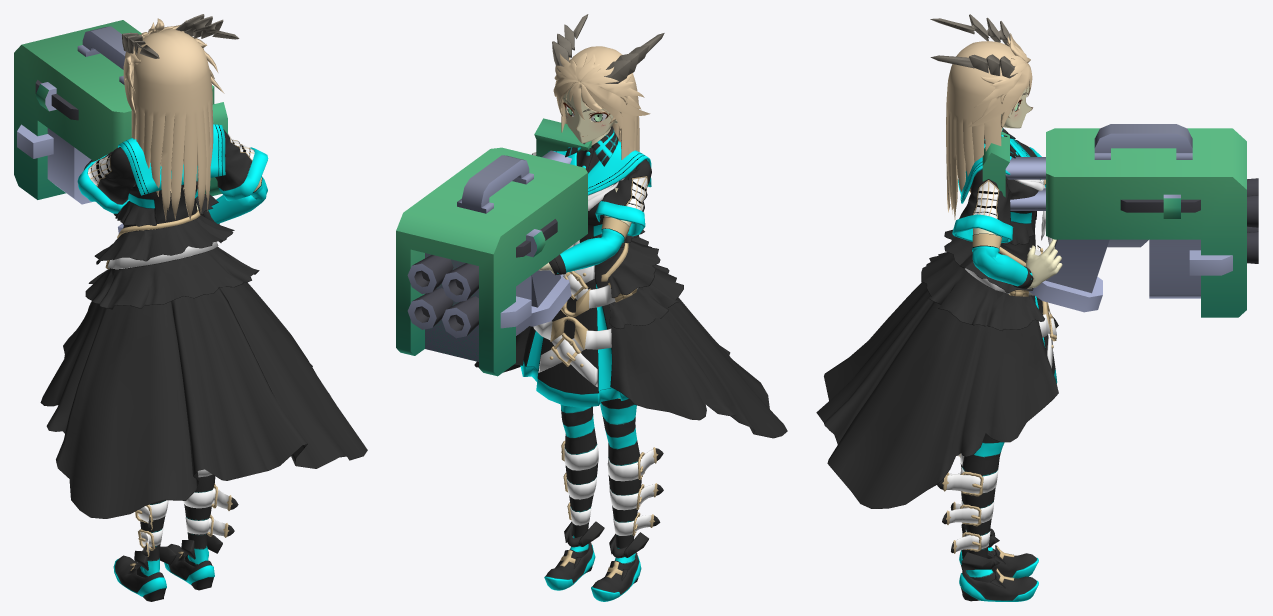
The model's file is Pose_Rocket.glb.
3 views of the same model, side by side, from view 1: azimuth 30°, elevation 25°; view 2: azimuth 150°, elevation 25°; view 3: azimuth 270°, elevation 25° (orthographic). The views are drawn at different scales.
Parts seen in each view (by area): view 1: Static_mantle, Reference_Rocket_blaster-o, Static_hairBack, Static_frill, Static_cuffs, Static_belt, Static_shoes, Static_collar, Static_legs, Static_horn, Static_body, Static_armcover (+2 smaller); view 2: Reference_Rocket_blaster-o, Static_mantle, Static_belt, Static_body, Static_legs, Static_frill, Static_hairFront, Static_shoes, Static_cuffs, Static_armcover, Static_hairBack, Static_horn (+4 smaller); view 3: Reference_Rocket_blaster-o, Static_mantle, Static_frill, Static_hairBack, Static_belt, Static_cuffs, Static_shoes, Static_legs, Static_hairFront, Static_horn, Static_armcover, Static_body (+3 smaller).
Boxes of the visible parts, x1,y1,x2,y2 form: Static_mantle: (40,269,367,518); Reference_Rocket_blaster-o: (14,20,227,233); Static_hairBack: (131,29,213,220); Static_frill: (85,194,259,309); Static_cuffs: (77,129,268,213); Static_belt: (105,210,238,556); Static_shoes: (113,544,214,601); Static_collar: (118,124,225,195); Static_legs: (136,474,215,577); Static_horn: (122,14,239,58); Static_body: (119,147,197,269); Static_armcover: (78,161,267,223); Reference_Rocket_blaster-o: (396,118,591,376); Static_mantle: (474,287,787,438); Static_belt: (533,243,663,535); Static_body: (520,159,646,407); Static_legs: (560,398,641,569); Static_frill: (594,230,683,328); Static_hairFront: (553,53,650,132); Static_shoes: (544,542,641,601); Static_cuffs: (532,152,651,236); Static_armcover: (557,217,629,273); Static_hairBack: (561,46,639,159); Static_horn: (552,14,664,83); Reference_Rocket_blaster-o: (982,124,1258,317); Static_mantle: (816,282,1058,508); Static_frill: (921,221,1044,330); Static_hairBack: (946,41,1014,219); Static_belt: (937,239,1056,553); Static_cuffs: (952,140,1041,243); Static_shoes: (959,545,1038,601); Static_legs: (960,434,1004,582); Static_hairFront: (967,33,1032,130); Static_horn: (930,14,1015,78); Static_armcover: (972,179,1045,286); Static_body: (970,175,1057,383).
Size of the model in its own units: 0.7691 by 1.47 by 1.07.
6 materials, 5 textured.
